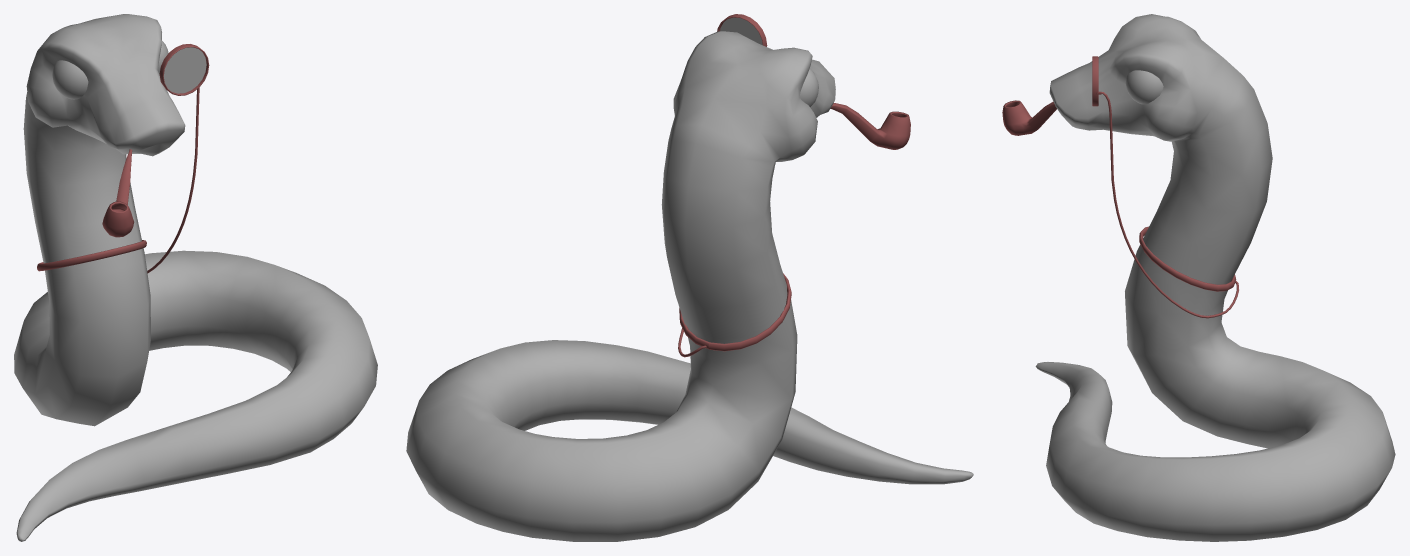
File: SM_Snake_03a.fbx
3 renders of one model, left to right at view 1: azimuth 30°, elevation 25°; view 2: azimuth 150°, elevation 25°; view 3: azimuth 270°, elevation 25°, orthographic. The views are drawn at different scales.
Visible parts, largest first — view 1: Base_low, occhiali2, pCylinder3, pCylinder1, Eyeball_low; view 2: Base_low, pCylinder1, occhiali2; view 3: Base_low, occhiali2, pCylinder1, Eyeball_low.
Part boxes in pixels (box(x1,y1,x2,y2)): Base_low: box(14, 14, 377, 541); occhiali2: box(37, 44, 209, 273); pCylinder3: box(163, 47, 206, 93); pCylinder1: box(102, 149, 134, 237); Eyeball_low: box(52, 41, 168, 99); Base_low: box(406, 31, 973, 541); pCylinder1: box(830, 103, 910, 149); occhiali2: box(678, 14, 791, 357); Base_low: box(1035, 14, 1395, 541); occhiali2: box(1092, 56, 1238, 318); pCylinder1: box(1002, 100, 1056, 135); Eyeball_low: box(1125, 70, 1163, 104).
Bounding box in the file's own units: 110 × 106 × 93.69.
